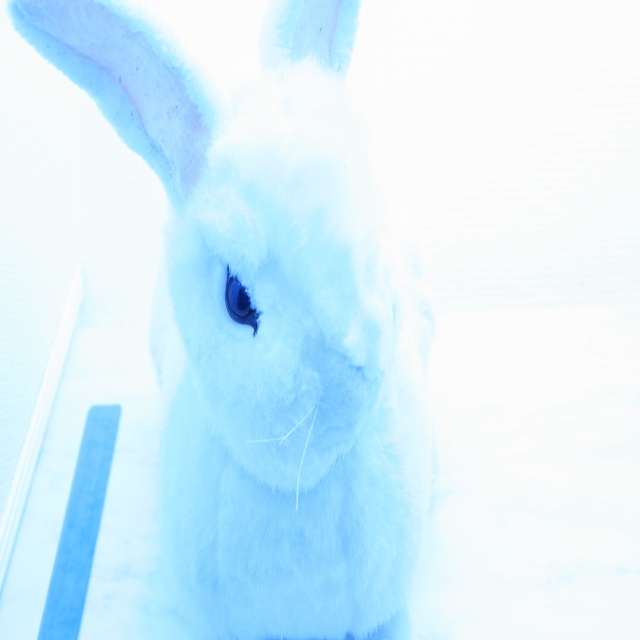Rabbit: (2, 0, 440, 639)
